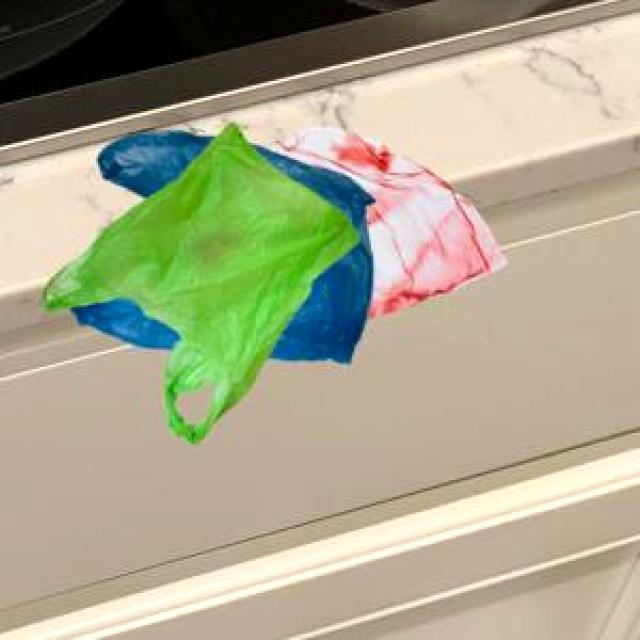Plastic_Bag: (39, 118, 356, 443), (67, 129, 372, 360), (262, 123, 504, 314)
